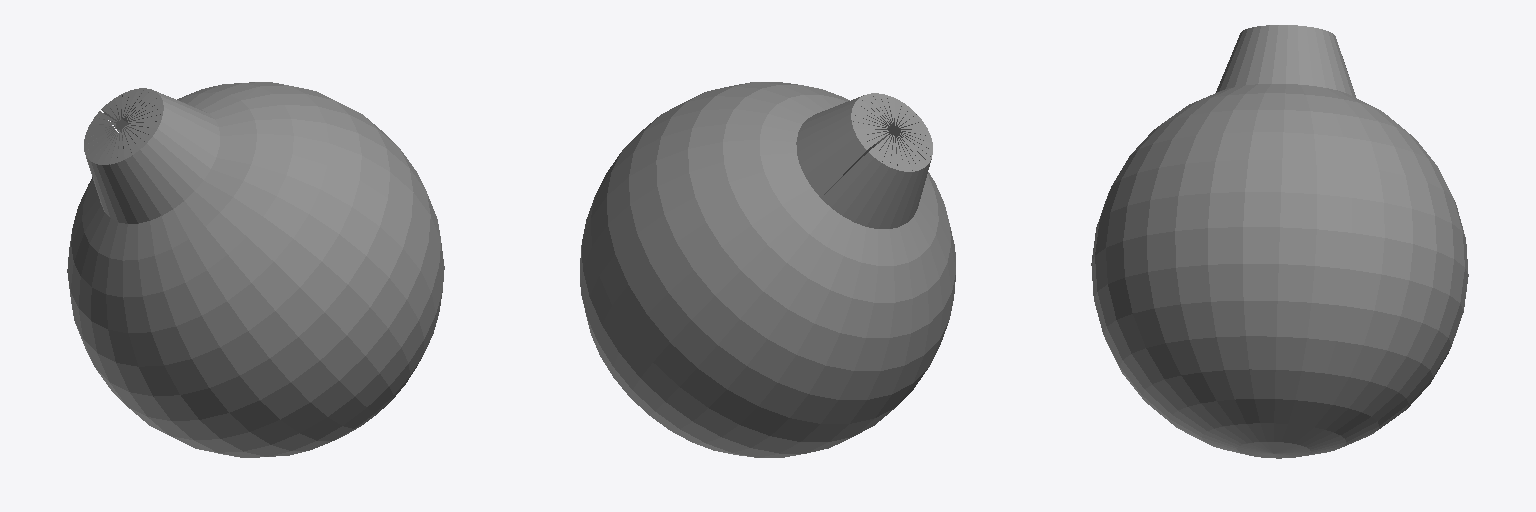
File: Bomb.obj
The picture shows the model from 3 angles: view 1: azimuth 30°, elevation 25°; view 2: azimuth 150°, elevation 25°; view 3: azimuth 270°, elevation 25°; orthographic projection.
Visible parts, largest first — view 1: Bomb_body; view 2: Bomb_body; view 3: Bomb_body.
Part boxes in pixels (bbox=[...]): Bomb_body: bbox=[67, 82, 444, 457]; Bomb_body: bbox=[580, 82, 955, 457]; Bomb_body: bbox=[1091, 25, 1468, 458].
Size of the model in its own units: 49.06 by 53.06 by 49.18.